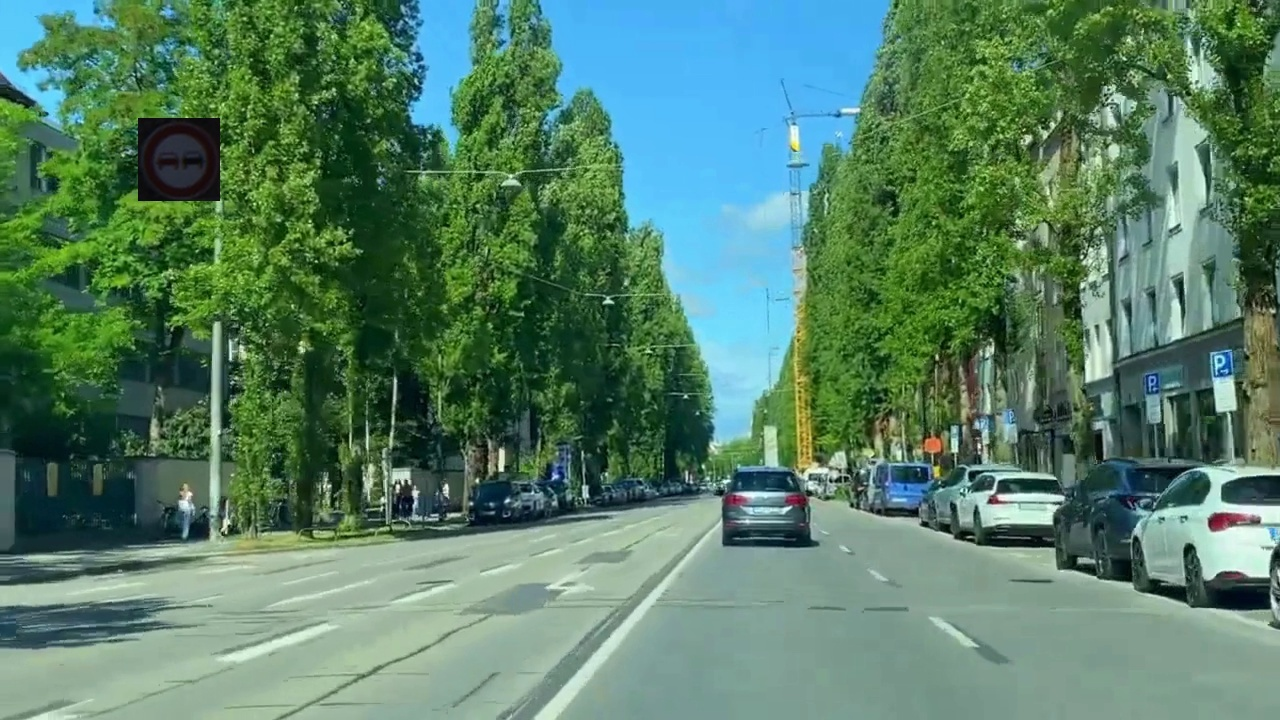No passing: (138, 118, 220, 201)
